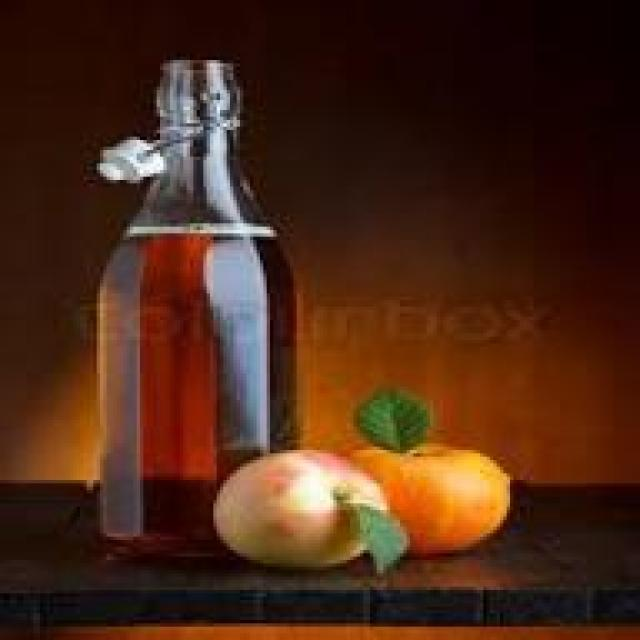apple: (190, 453, 403, 570), (330, 443, 513, 550)
